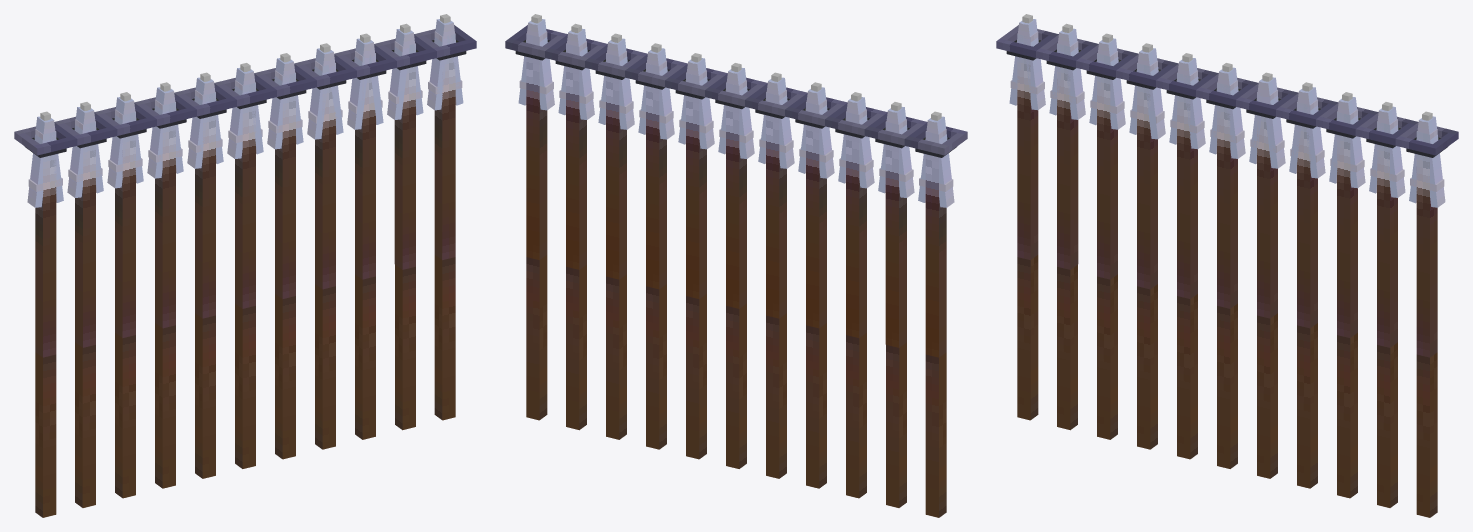
File: trap-19.glb
The picture shows the model from 3 angles, left to right: view 1: azimuth 30°, elevation 25°; view 2: azimuth 150°, elevation 25°; view 3: azimuth 330°, elevation 25°; orthographic projection.
Visible parts, largest first — view 1: Base$$1-Local; view 2: Base$$1-Local; view 3: Base$$1-Local.
Part boxes in pixels (left/top/right/bottom): Base$$1-Local: left=14, top=14, right=476, bottom=517; Base$$1-Local: left=505, top=14, right=967, bottom=517; Base$$1-Local: left=996, top=14, right=1458, bottom=517.
Size of the model in its own units: 11 by 9.56 by 0.9998.
Materials: 5 (5 with a texture image).
